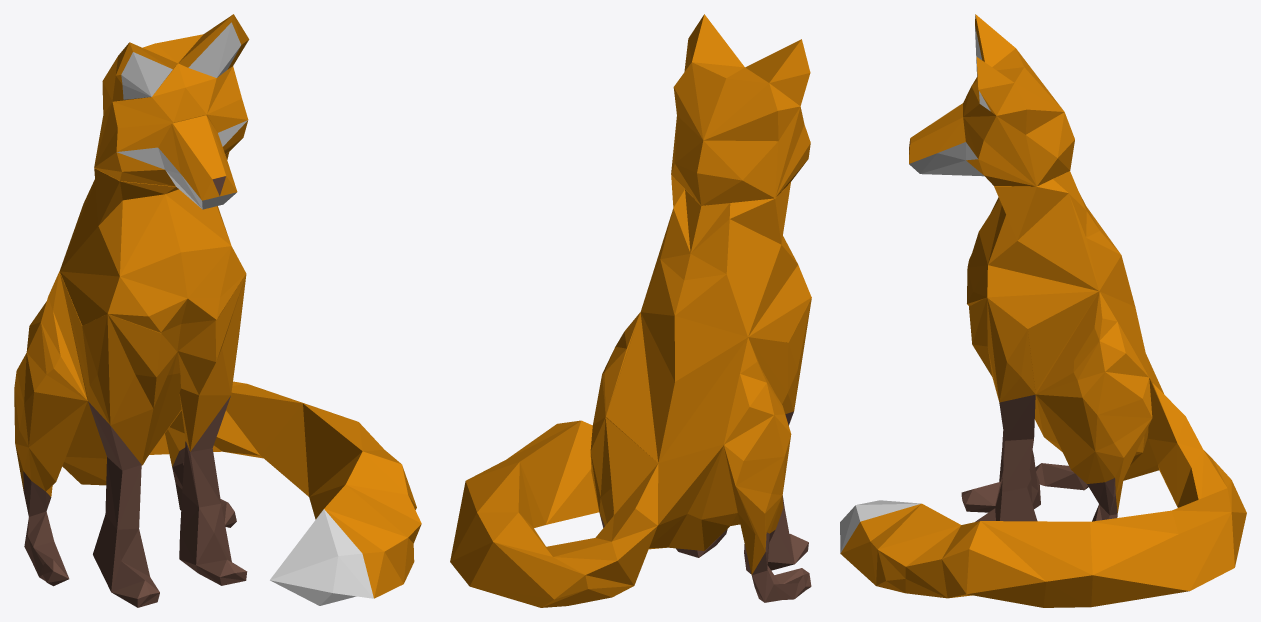
File: fox.glb
3 views of the same model, side by side, from view 1: azimuth 30°, elevation 25°; view 2: azimuth 150°, elevation 25°; view 3: azimuth 270°, elevation 25° (orthographic). The views are drawn at different scales.
Visible parts, largest first — view 1: node_MeshObject271729280-PolyPaper21; view 2: node_MeshObject271729280-PolyPaper21; view 3: node_MeshObject271729280-PolyPaper21.
Part boxes in pixels (left/top/right/bottom): node_MeshObject271729280-PolyPaper21: left=14, top=14, right=421, bottom=607; node_MeshObject271729280-PolyPaper21: left=450, top=14, right=811, bottom=607; node_MeshObject271729280-PolyPaper21: left=840, top=14, right=1246, bottom=607.
Bounding box in the file's own units: 2.47 × 3.88 × 2.92.
